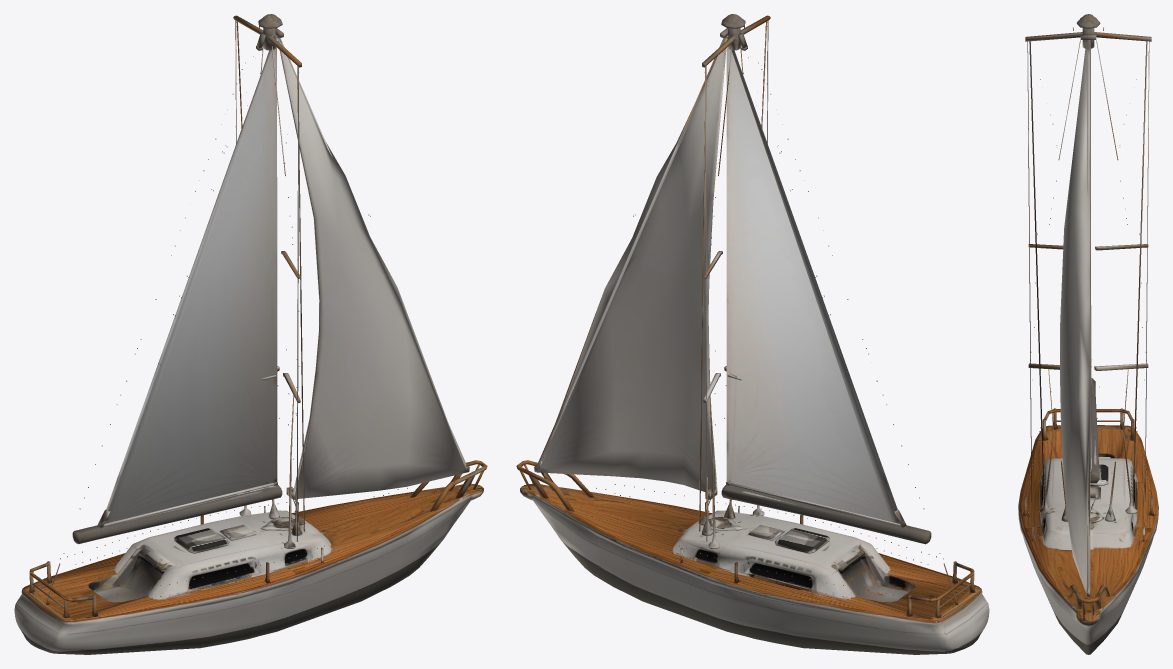
Rendered from a_sailboat_f6e631cb_v3.glb.
The picture shows the model from 3 angles, left to right: view 1: azimuth 30°, elevation 25°; view 2: azimuth 150°, elevation 25°; view 3: azimuth 270°, elevation 25°; orthographic projection. The views are drawn at different scales.
Parts seen in each view (by area): view 1: material; view 2: material; view 3: material.
Boxes of the visible parts, <box> form: material: <box>14,14,487,654</box>; material: <box>516,14,989,654</box>; material: <box>1018,14,1158,654</box>.
Bounding box in the file's own units: 1.48 × 1.9 × 0.4121.
1 material, 1 textured.
